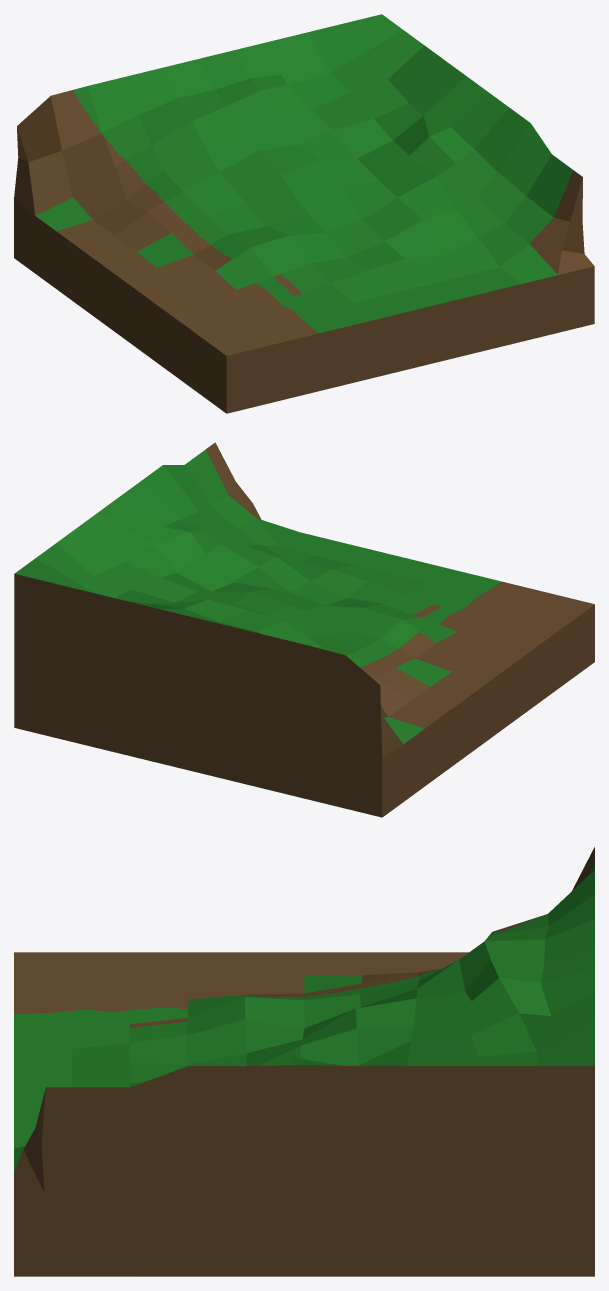
Rendered from Elev_Curve_PP.fbx.
3 renders of one model, top to bottom at view 1: azimuth 30°, elevation 25°; view 2: azimuth 150°, elevation 25°; view 3: azimuth 270°, elevation 25°, orthographic. The views are drawn at different scales.
Parts seen in each view (by area): view 1: Elev_Curve_PP; view 2: Elev_Curve_PP; view 3: Elev_Curve_PP.
Part boxes in pixels (<box>): Elev_Curve_PP: <box>14,14,594,413</box>; Elev_Curve_PP: <box>14,442,594,817</box>; Elev_Curve_PP: <box>14,847,594,1276</box>.
Size of the model in its own units: 200 by 80.17 by 200.
